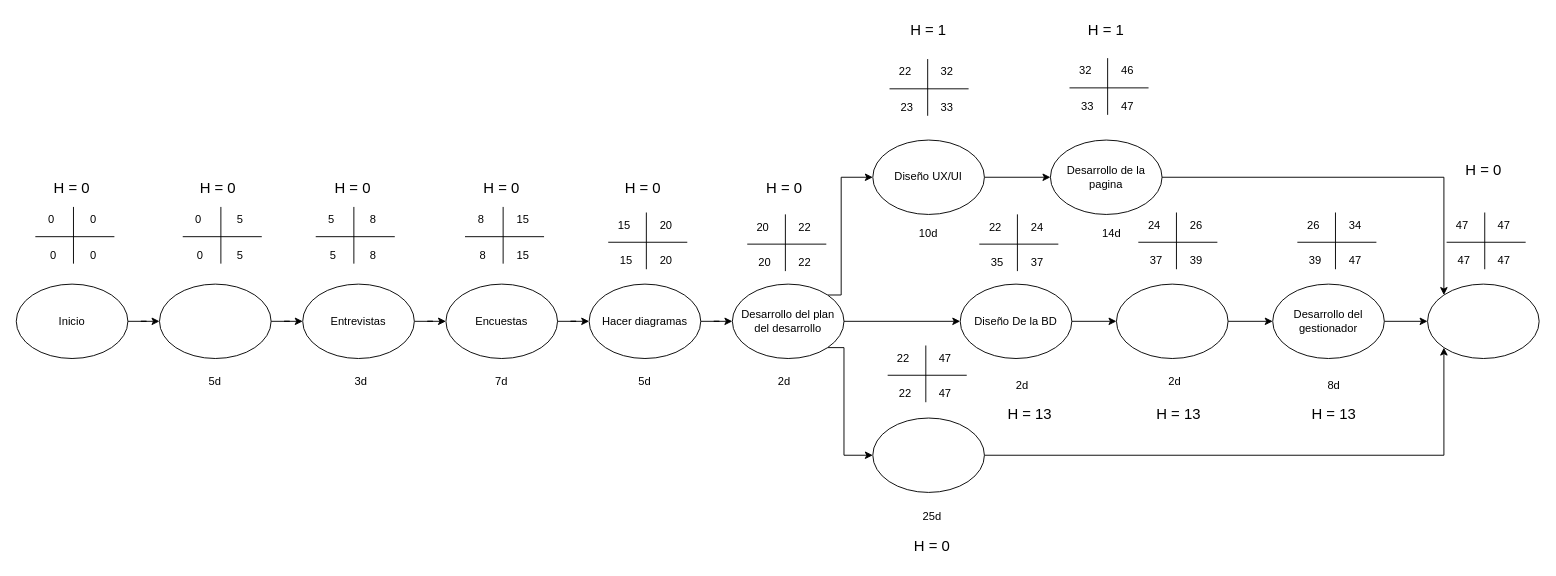
This 1556x576 diagram has some shape labels left out. Each missing label, with the centre of its shape:
Creacion de la BD: point 1172,321
Fecha de Entrega Aprox: point 928,454
Final: point 1483,321
Pensamiento del Problema: point 215,321
